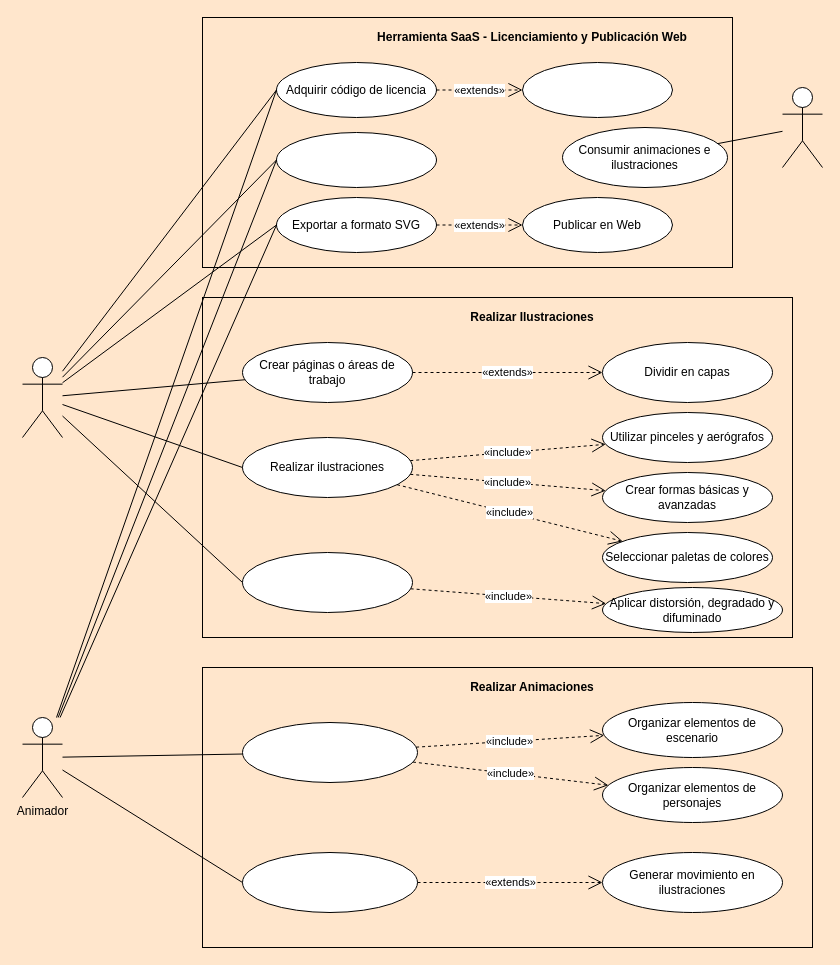
This 840x965 diagram has some shape labels left out. Here are the shapes that lost their labels. From the top down, the box of each, then its label:
(522, 62, 672, 118): Registrarse vía Web
(782, 86, 822, 168): Público
(276, 132, 436, 188): Autentificación con cuenta
(22, 356, 62, 438): Ilustrador
(242, 552, 412, 612): Generar efectos especiales
(242, 722, 418, 782): Tomar y organizar ilustraciones
(242, 852, 418, 912): Agrupar en líneas de tiempo
